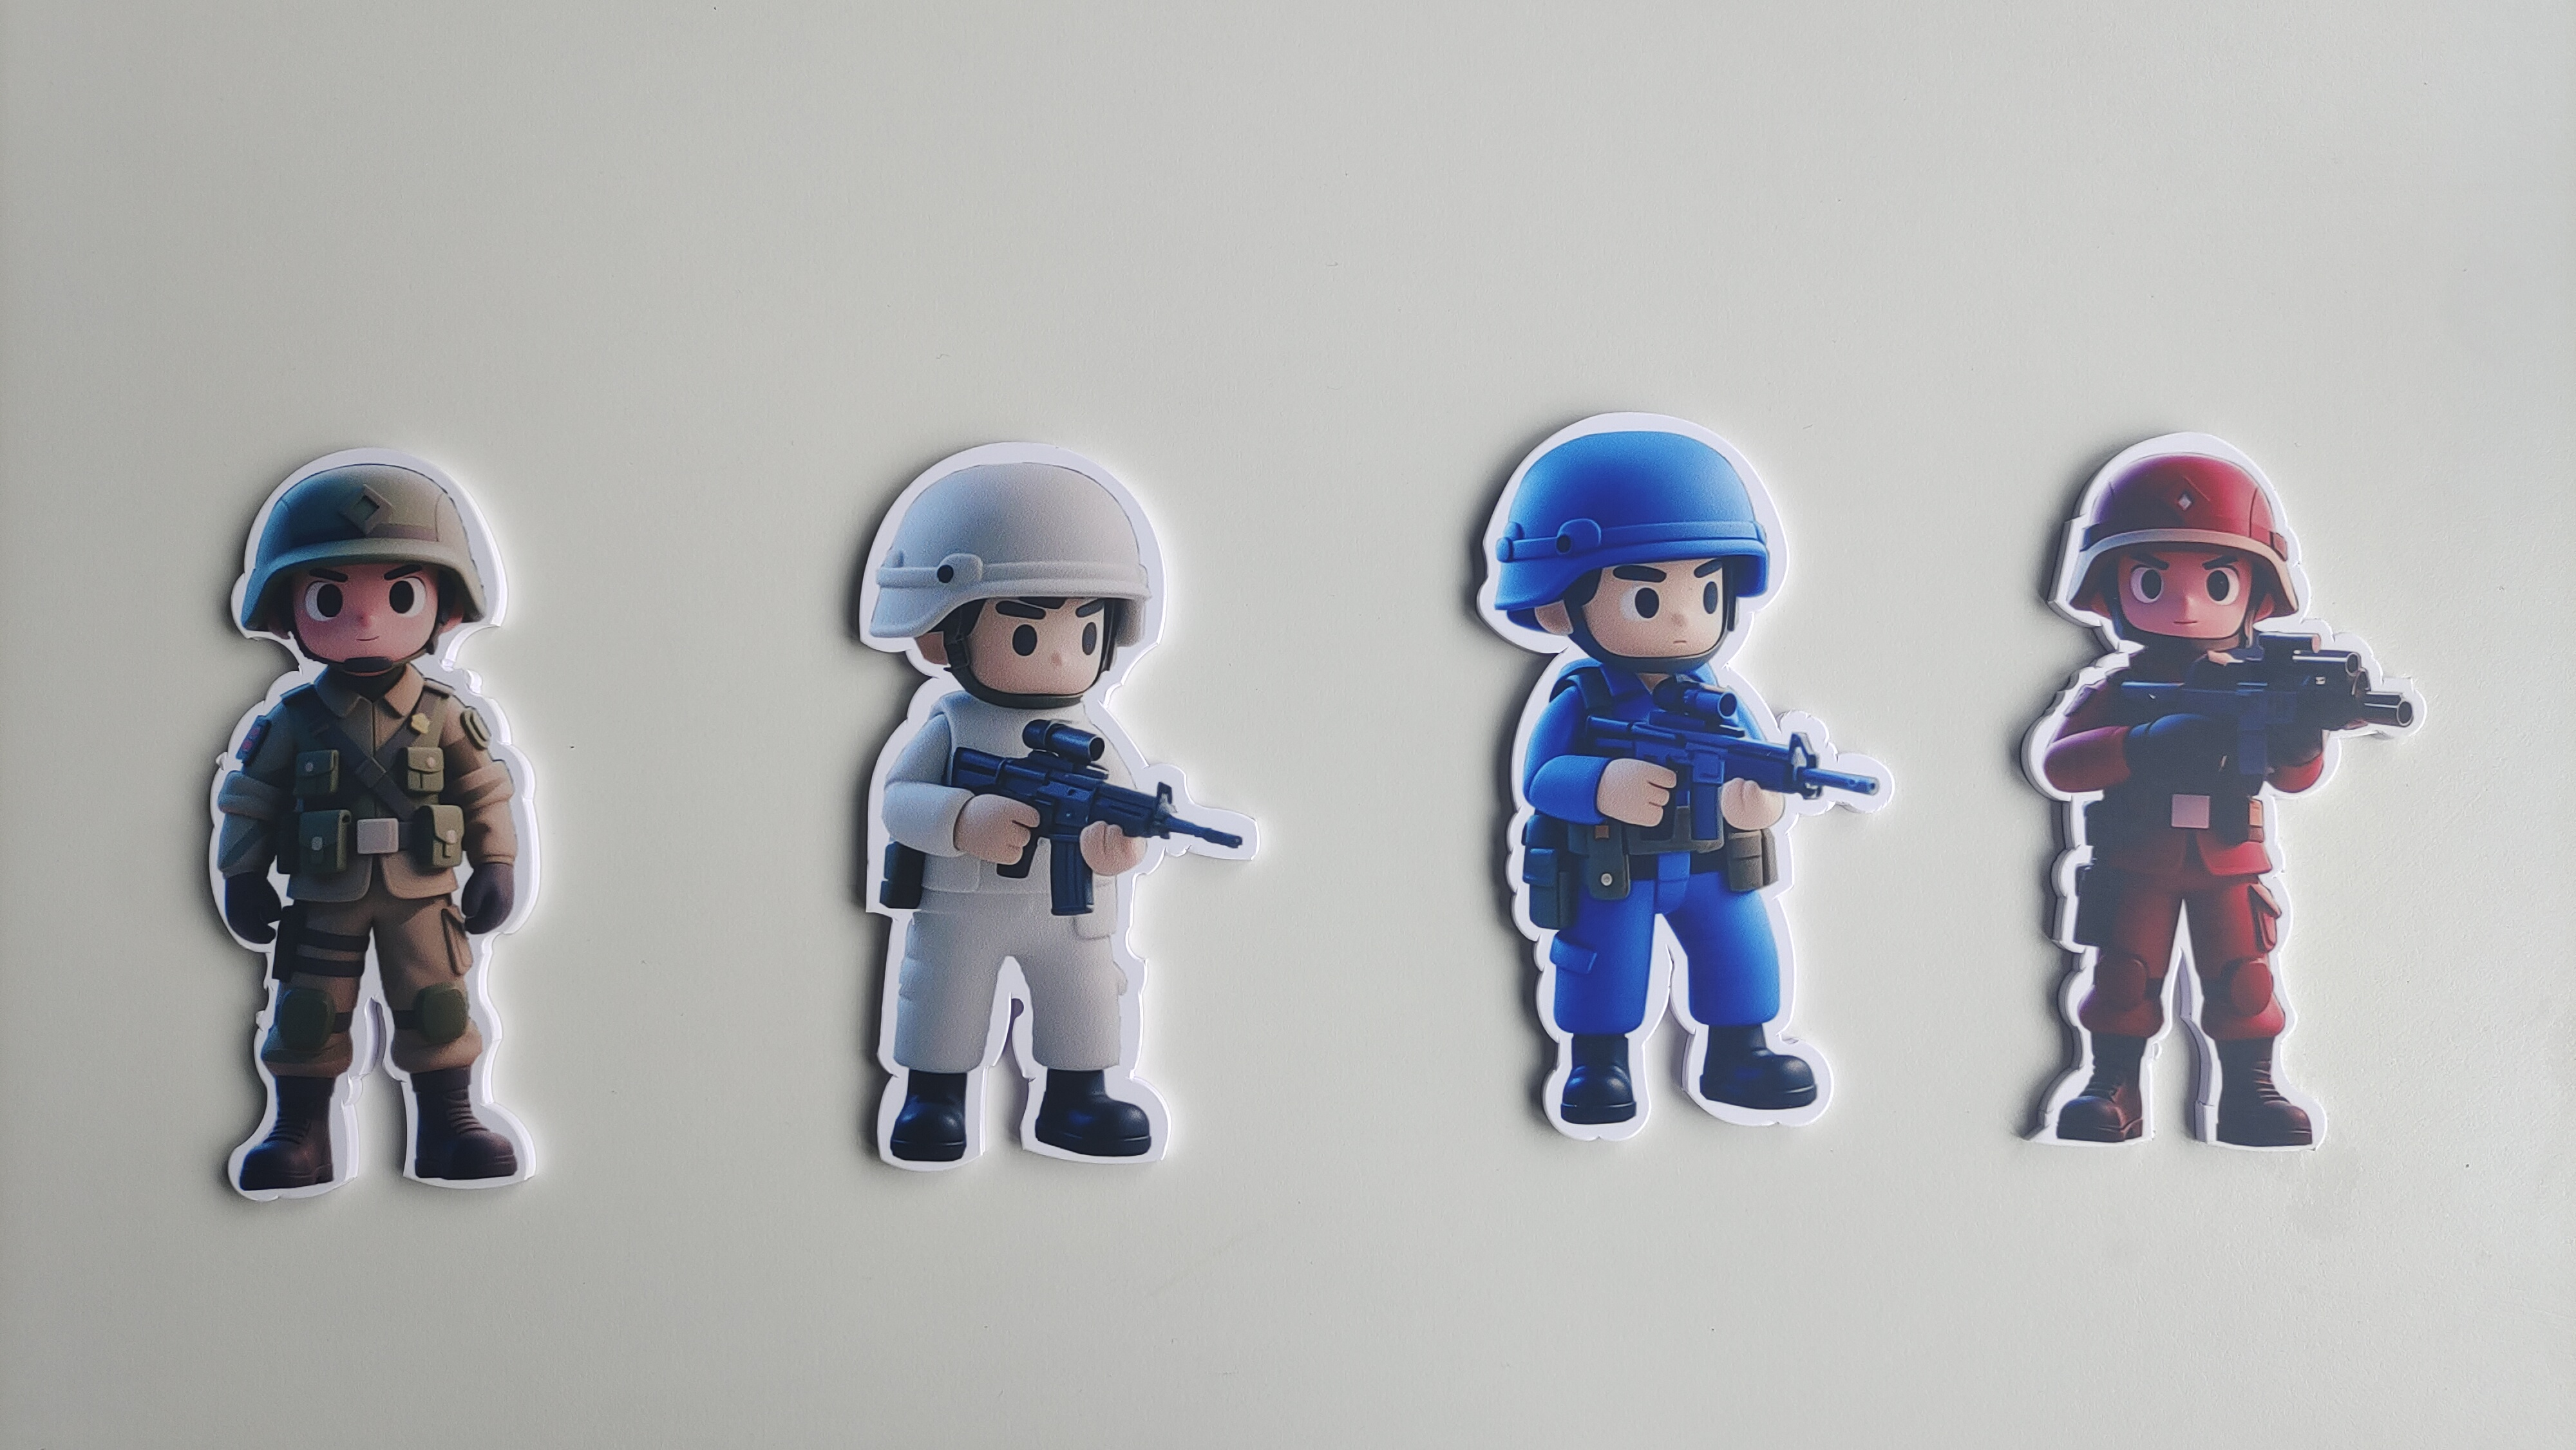enemy1: (2003, 644, 2381, 1162)
enemy2: (1488, 670, 1847, 1142)
friend: (188, 674, 571, 1208)
hostage: (842, 706, 1201, 1178)
